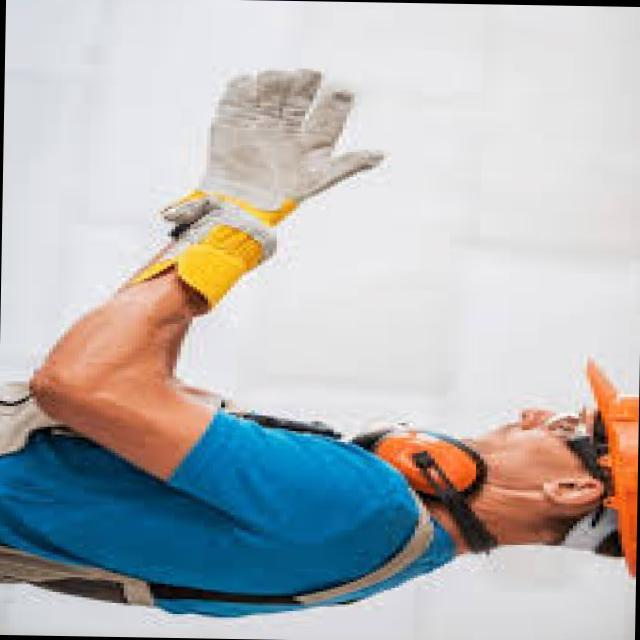gloved: (124, 64, 392, 319)
